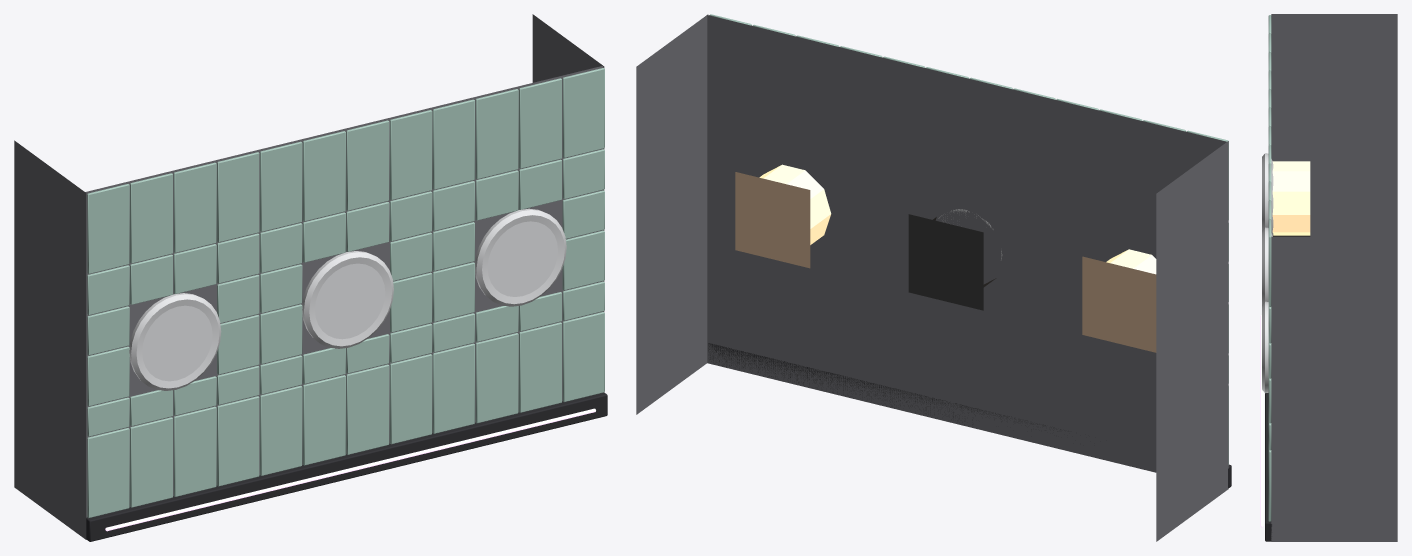
File: retro_upper_5b.glb
The picture shows the model from 3 angles, left to right: view 1: azimuth 30°, elevation 25°; view 2: azimuth 150°, elevation 25°; view 3: azimuth 270°, elevation 25°; orthographic projection. The views are drawn at different scales.
Parts seen in each view (by area): view 1: retro_upper_5b; view 2: retro_upper_5b; view 3: retro_upper_5b.
Part boxes in pixels (x1,y1,x2,y2): retro_upper_5b: (14,14,607,541); retro_upper_5b: (636,14,1231,541); retro_upper_5b: (1260,14,1397,541).
Bounding box in the file's own units: 5 × 3.2 × 1.31.
